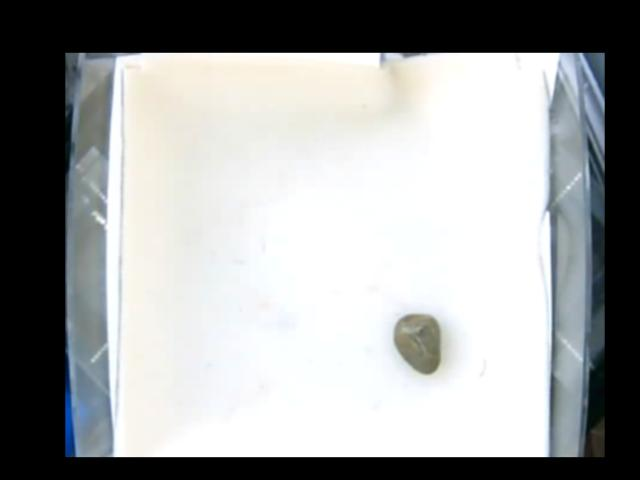Pebble: (393, 312, 441, 376)
